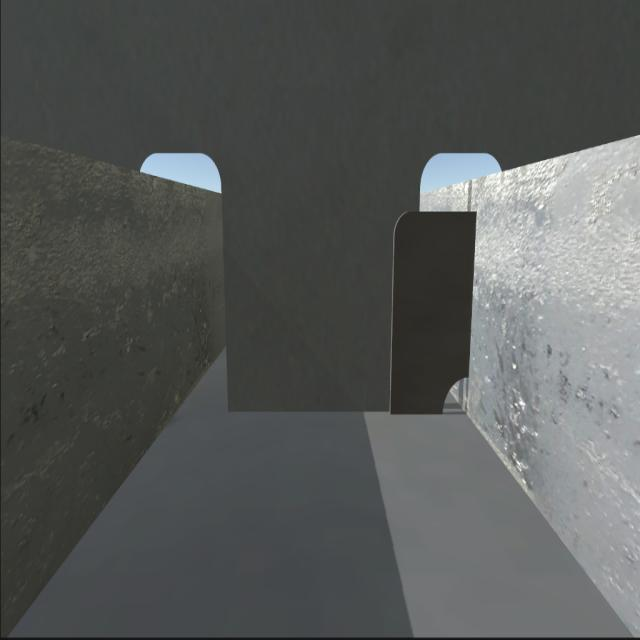fillet_hole: (438, 376, 468, 416)
fillet_yong_jeop_jang: (228, 410, 442, 420)
longi_yong_jeop_jang: (466, 214, 476, 372)
plate_CP05: (389, 212, 473, 409)
